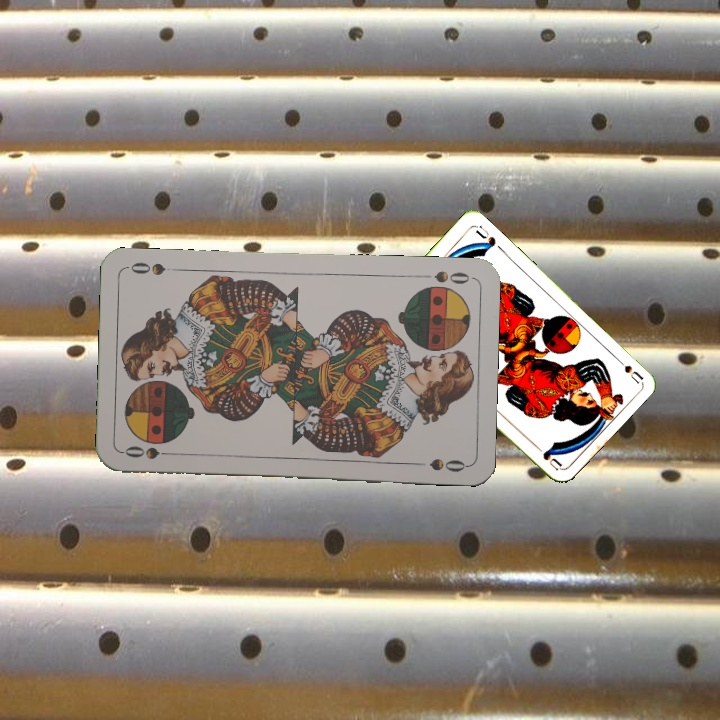SO: (120, 442, 179, 461), (430, 267, 472, 287)
SU: (610, 351, 645, 385)
